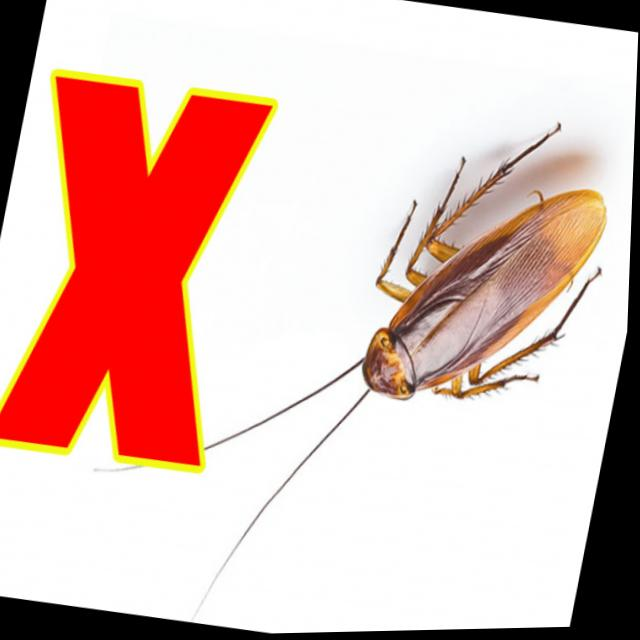Cockroach: (188, 76, 635, 636)
